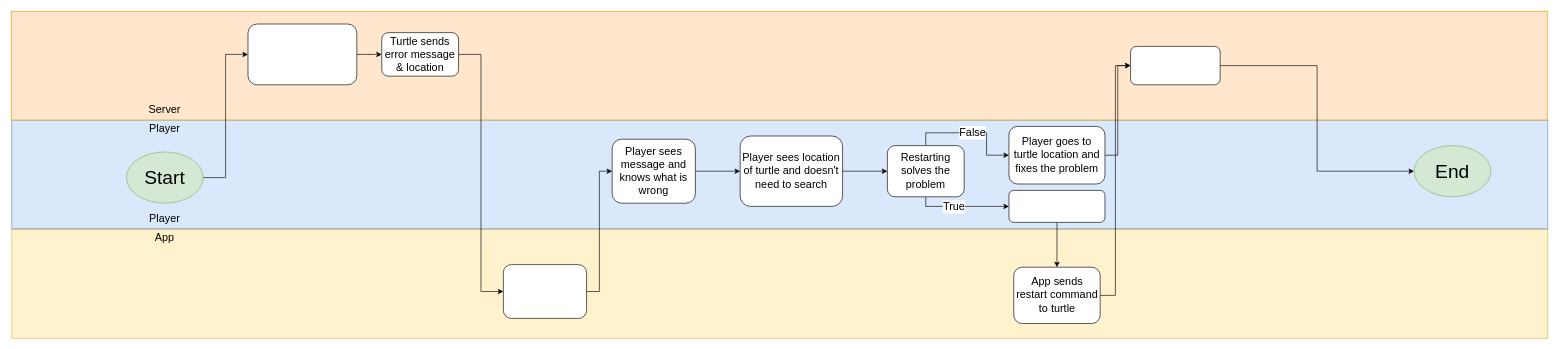
Some shapes in this 1559 by 349 pixel diagram are drawn without their labels. Each missing label, with the centre of its shape:
"App receives message & location and displays it" belongs at [545,291].
"Player restarts turtle from the site" belongs at [1056,206].
"Turtle crashes or something else went wrong" belongs at [302,54].
"Turtle restarts and works again" belongs at [1175,65].
